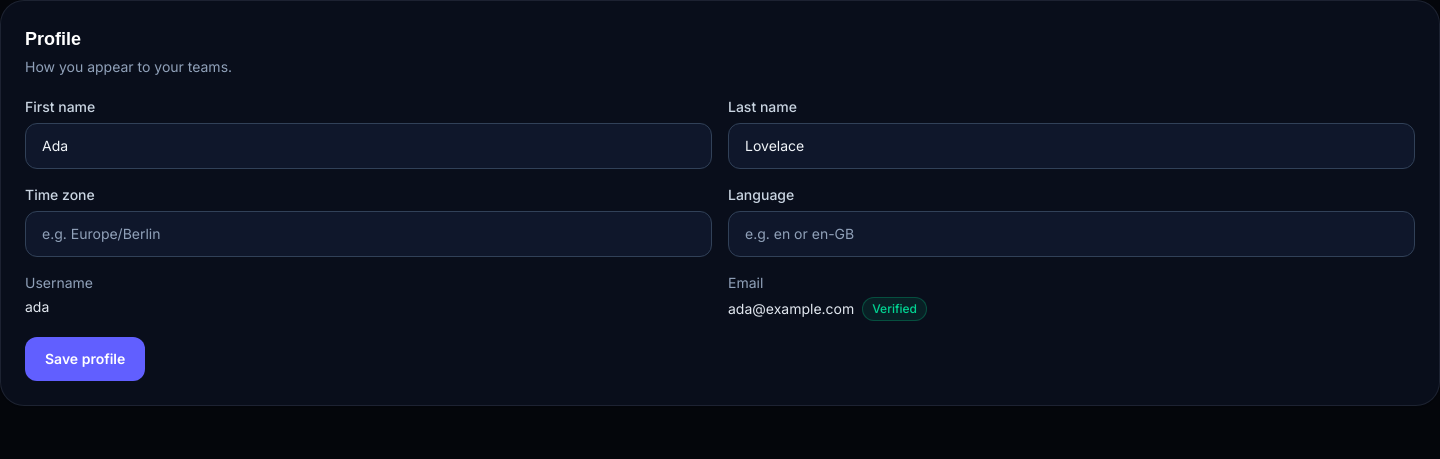
ProfileSection › shows the server's reason when a value is refused
Step 1. Type "Mars/Olympus" into the field labelled "Time zone" → point(368, 234), box top-left (25, 211), bottom-right (712, 257)
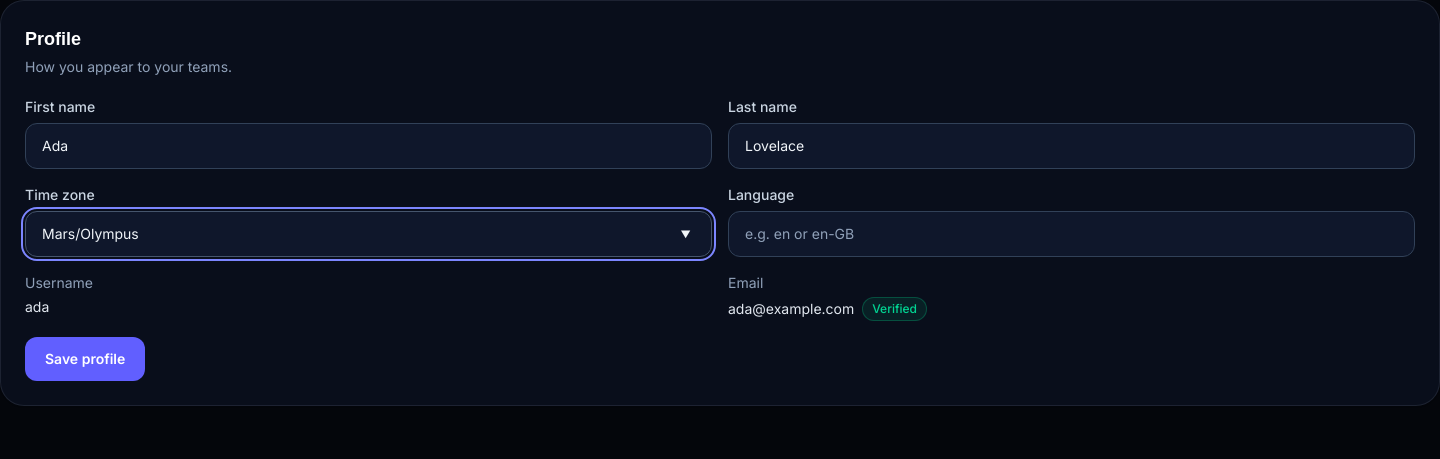
Step 2. Click the button "Save profile" → point(85, 359), box top-left (25, 337), bottom-right (145, 381)
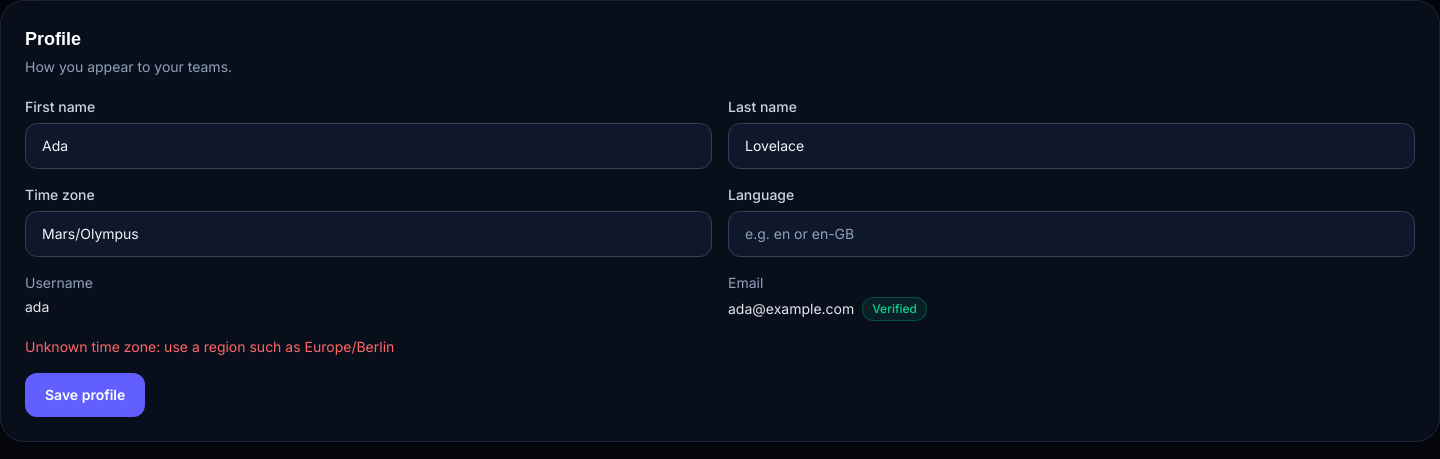
Expected: the message shows "Unknown time zone", top-left (25, 338), bottom-right (394, 355)
